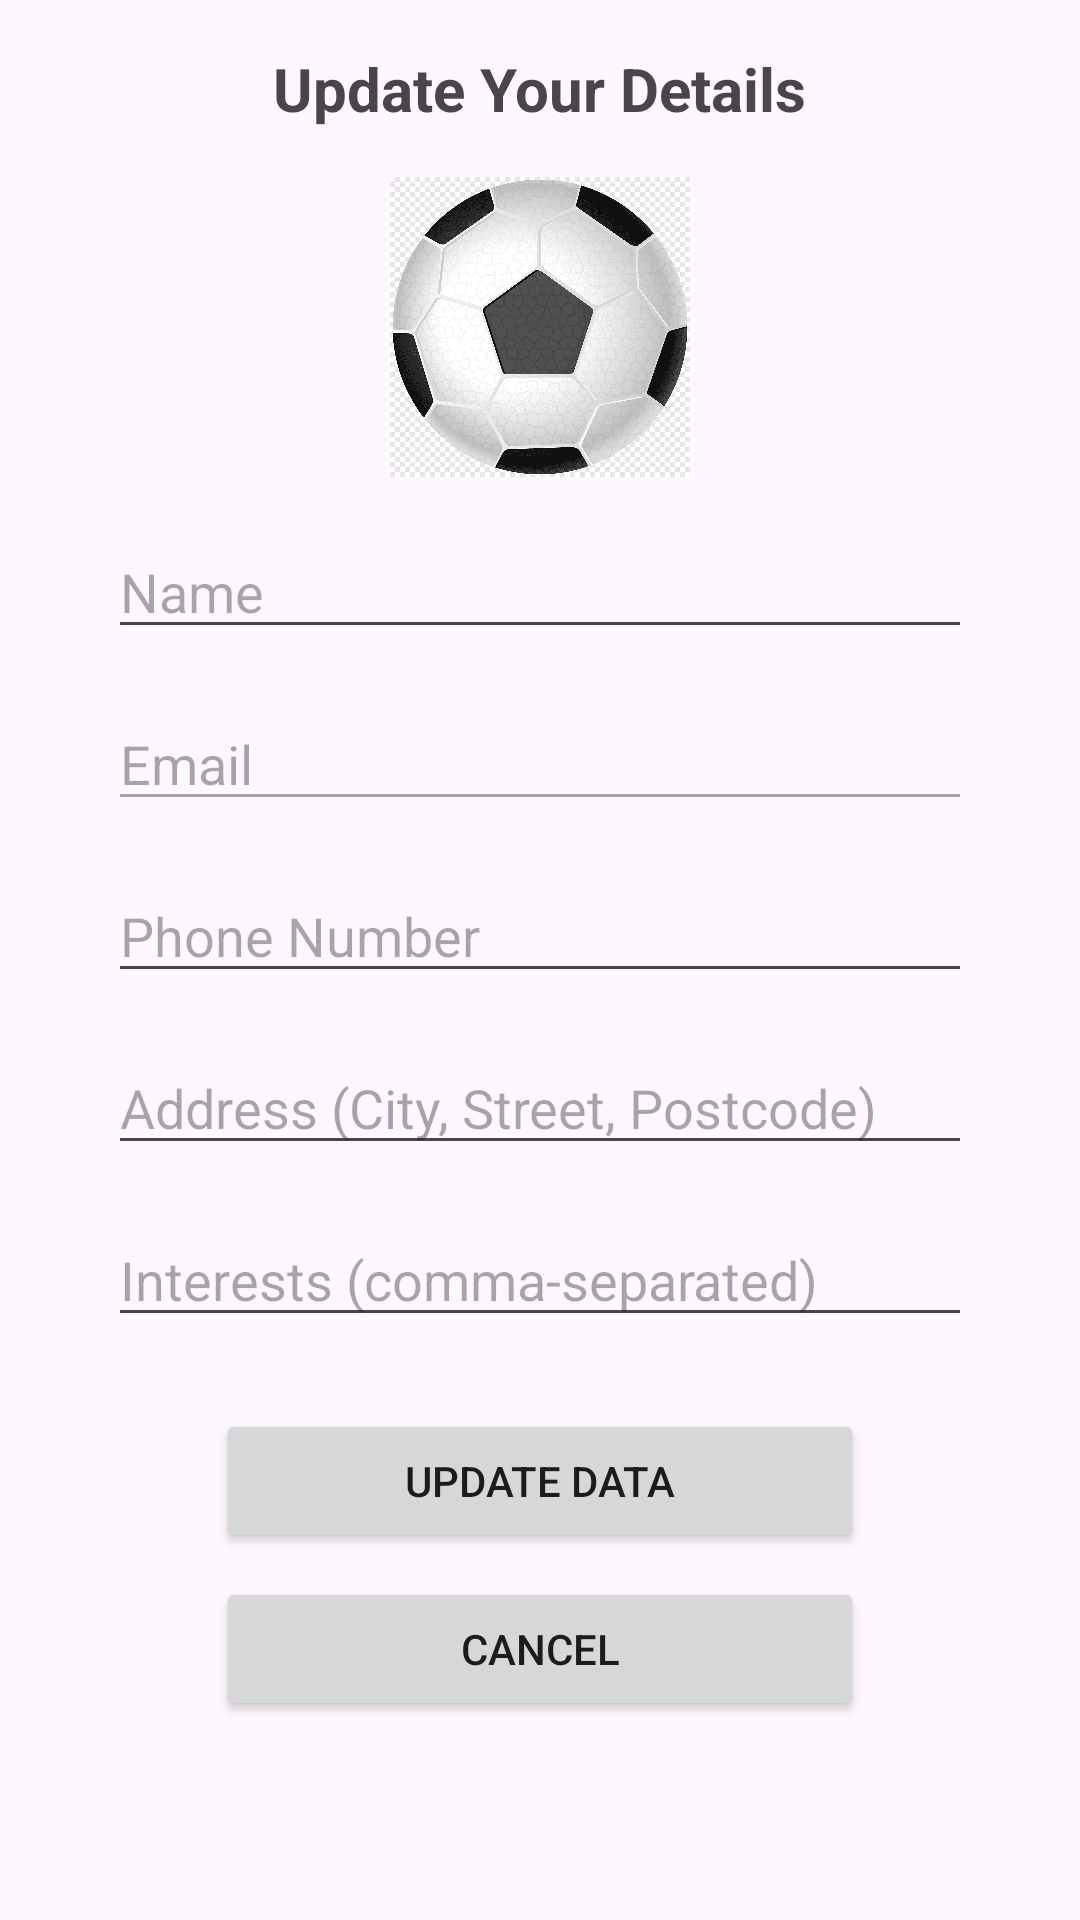

Point at icon controls on the screen. Image size 1080 × 1920, points as [x,y].
Profile Picture: [540,327]
